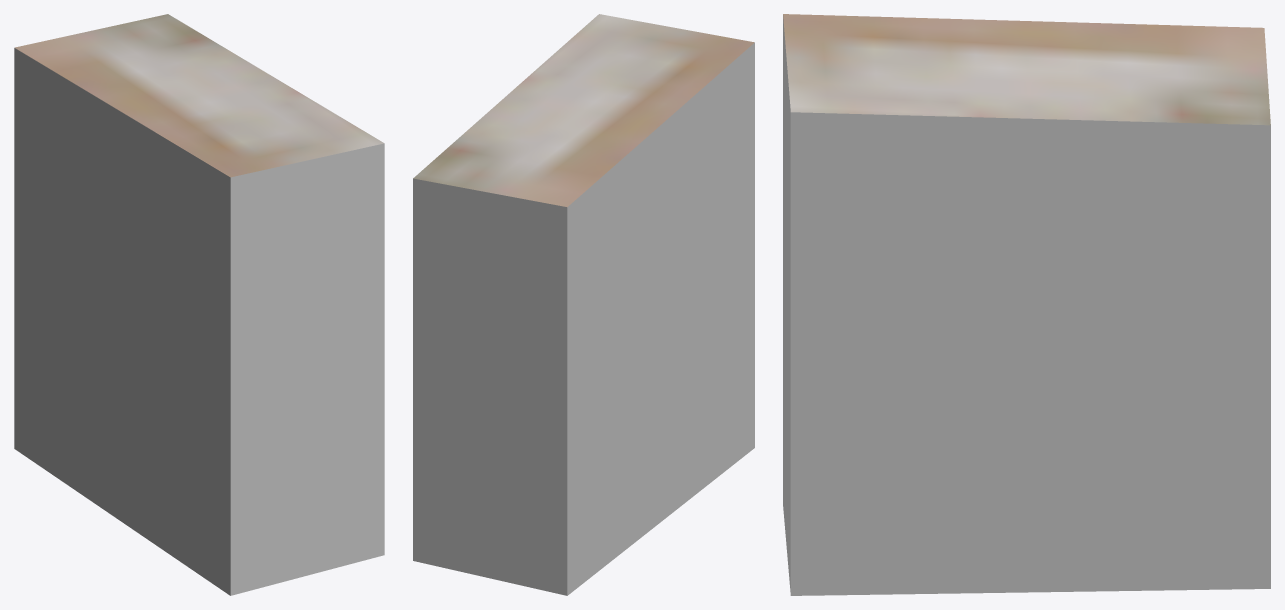
The model's file is DEBW_0010007THZ0.gltf.
3 renders of one model, left to right at view 1: azimuth 30°, elevation 25°; view 2: azimuth 150°, elevation 25°; view 3: azimuth 270°, elevation 25°, orthographic. The views are drawn at different scales.
Visible parts, largest first — view 1: Z_UP; view 2: Z_UP; view 3: Z_UP.
Boxes of the visible parts, x1,y1,x2,y2 form: Z_UP: (14,14,384,595); Z_UP: (413,14,754,595); Z_UP: (783,14,1270,595).
Bounding box in the file's own units: 1.78 × 4.22 × 3.79.
Materials: 2 (1 with a texture image).
